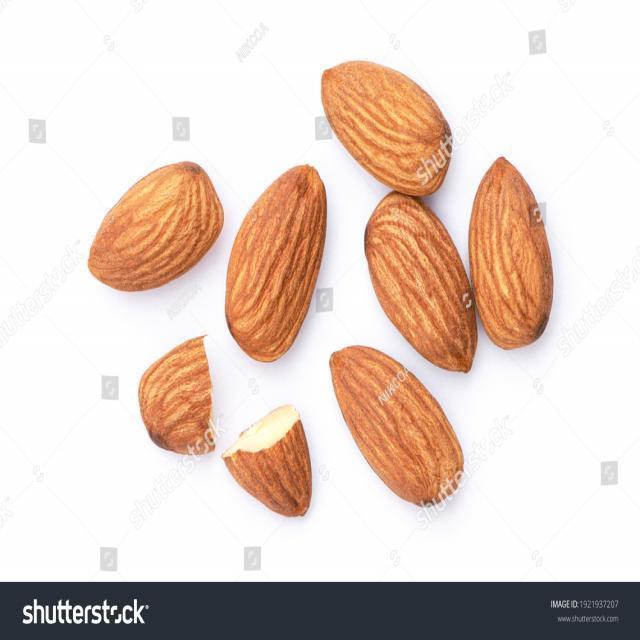almond: (327, 342, 465, 510), (363, 188, 480, 375), (222, 164, 328, 369), (322, 60, 455, 195), (95, 158, 227, 292), (470, 152, 555, 348)
